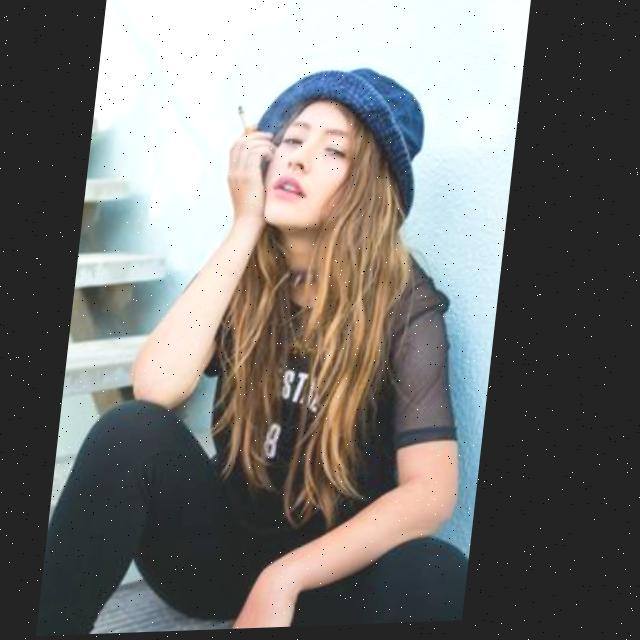cigarette: (238, 108, 263, 137)
